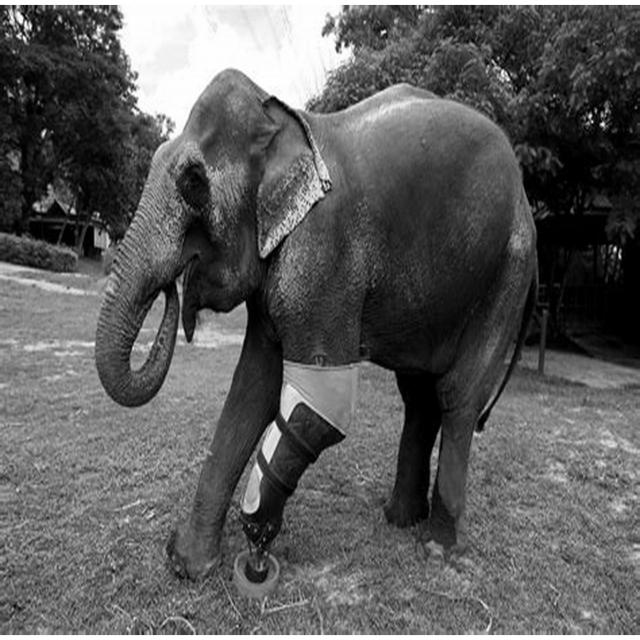Elephant: (94, 66, 540, 584)
